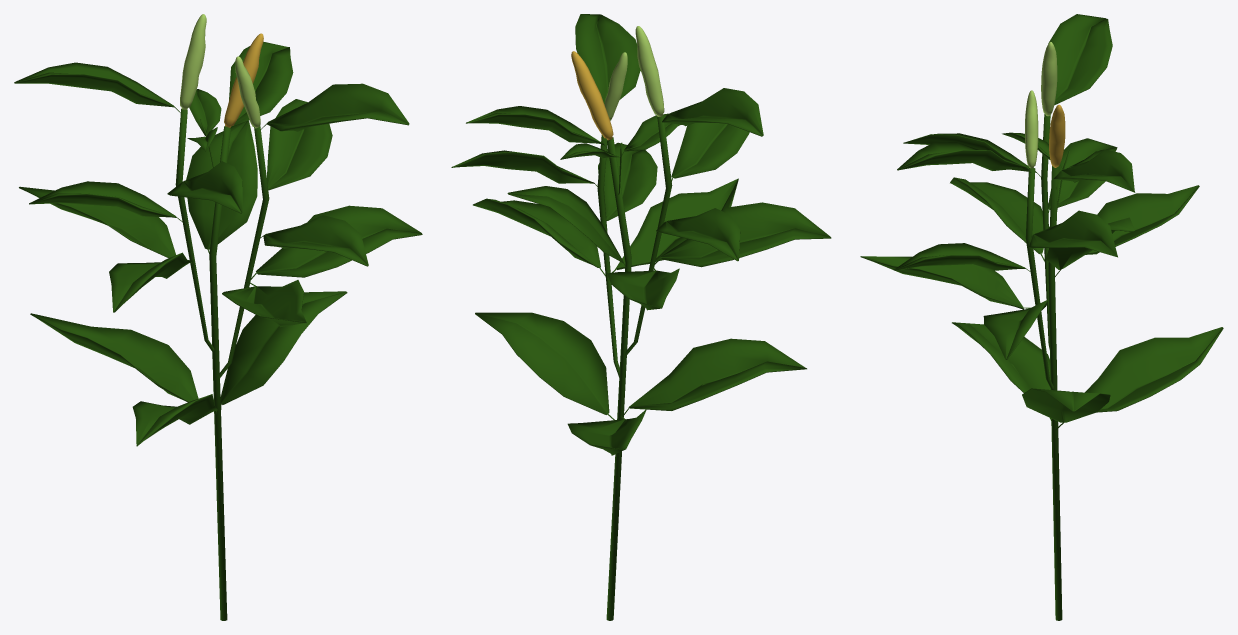
Rendered from PimentaVerde.fbx.
3 views of the same model, side by side, from view 1: azimuth 30°, elevation 25°; view 2: azimuth 150°, elevation 25°; view 3: azimuth 270°, elevation 25° (orthographic). The views are drawn at different scales.
Visible parts, largest first — view 1: PimentaVerde; view 2: PimentaVerde; view 3: PimentaVerde.
Part boxes in pixels (x1,y1,x2,y2): PimentaVerde: [14, 14, 422, 620]; PimentaVerde: [451, 14, 831, 620]; PimentaVerde: [860, 14, 1223, 620].
Size of the model in its own units: 15.26 by 25.36 by 14.74.
